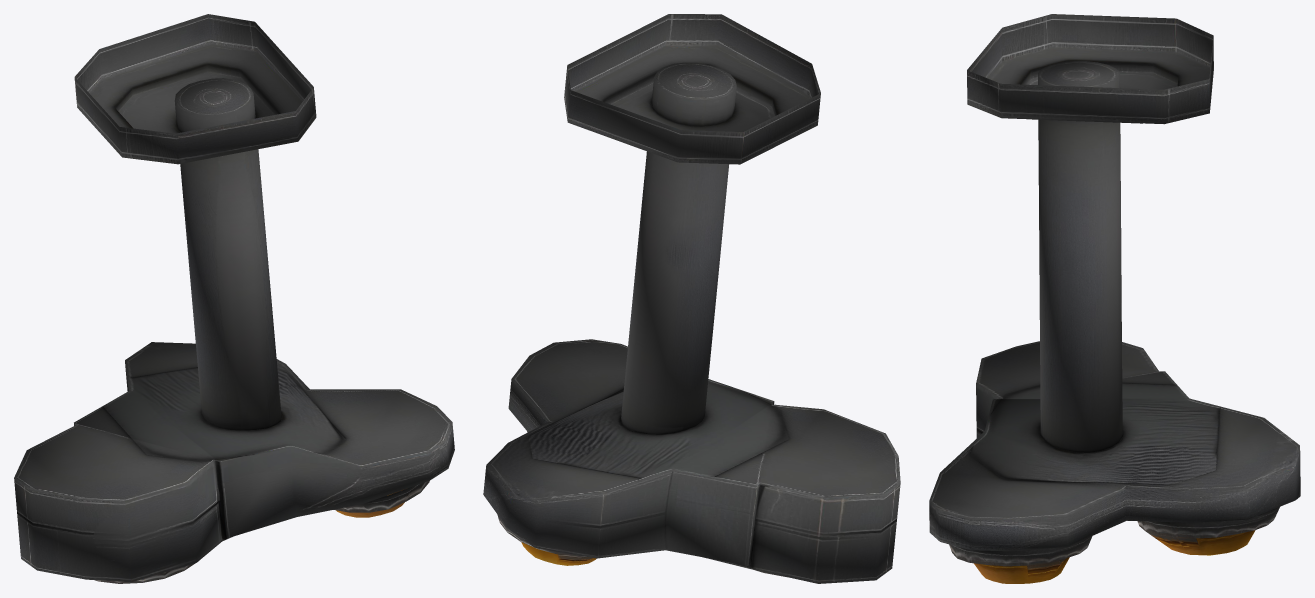
File: cold-iron-v2-light-b-beacon-cluster.glb
3 views of the same model, side by side, from view 1: azimuth 30°, elevation 25°; view 2: azimuth 150°, elevation 25°; view 3: azimuth 270°, elevation 25° (orthographic). The views are drawn at different scales.
Visible parts, largest first — view 1: tripo_node_b65dd829-90b0-4261-9cd0-e432a2445448; view 2: tripo_node_b65dd829-90b0-4261-9cd0-e432a2445448; view 3: tripo_node_b65dd829-90b0-4261-9cd0-e432a2445448.
Boxes of the visible parts, bbox=[...] form: tripo_node_b65dd829-90b0-4261-9cd0-e432a2445448: bbox=[14, 14, 454, 583]; tripo_node_b65dd829-90b0-4261-9cd0-e432a2445448: bbox=[483, 14, 900, 583]; tripo_node_b65dd829-90b0-4261-9cd0-e432a2445448: bbox=[929, 14, 1300, 583].
Bounding box in the file's own units: 0.8914 × 1.04 × 0.714.
Materials: 1 (1 with a texture image).
